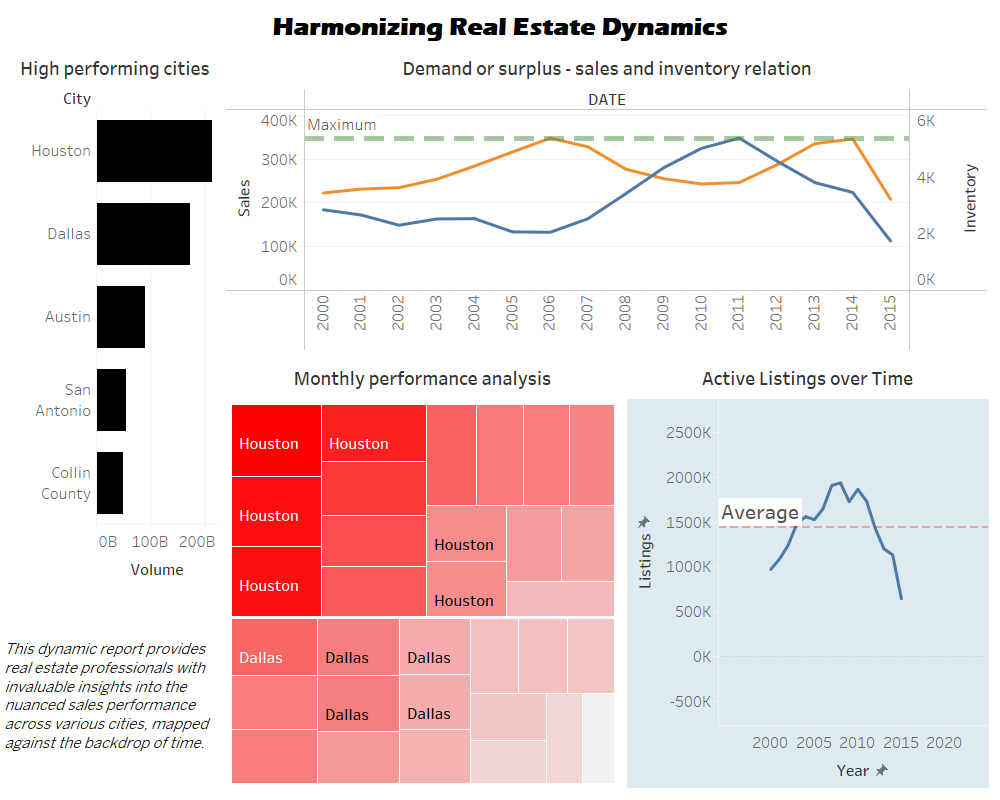

The page's visual inventory and layout, read from the dashboard file:
{"tool":"tableau","page":{"name":"Real Estate Professionals - Dashboard","canvas":[1000,800],"ordinal":0},"visuals":[{"type":"title","box":[8,8,984,37]},{"type":"worksheet","title":"Histogram chart","mark":"Bar","rows":["city"],"cols":["volume"],"box":[8,45,214,546]},{"type":"worksheet","title":"Combo chart","mark":"Automatic","rows":["sales","inventory"],"cols":["Calculation_1439744574023409665"],"box":[222,45,770,309.6]},{"type":"worksheet","title":"Heatmap Chart","mark":"Automatic","box":[222,354.6,401,437.4]},{"type":"worksheet","title":"Line chart","mark":"Line","rows":["listings"],"cols":["year"],"box":[623,354.6,369,437.4]},{"type":"text","box":[1,610,216,172]}]}

Visuals, with their boxes in screenshot pixels (x1, y1, x2, y2), scaled from the page's 1000x800 canvas onto the 1000x800 screenshot:
title: rect(8, 8, 992, 45)
"Histogram chart" worksheet (Bar marks): rect(8, 45, 222, 591)
"Combo chart" worksheet: rect(222, 45, 992, 355)
"Heatmap Chart" worksheet: rect(222, 355, 623, 792)
"Line chart" worksheet (Line marks): rect(623, 355, 992, 792)
text: rect(1, 610, 217, 782)
